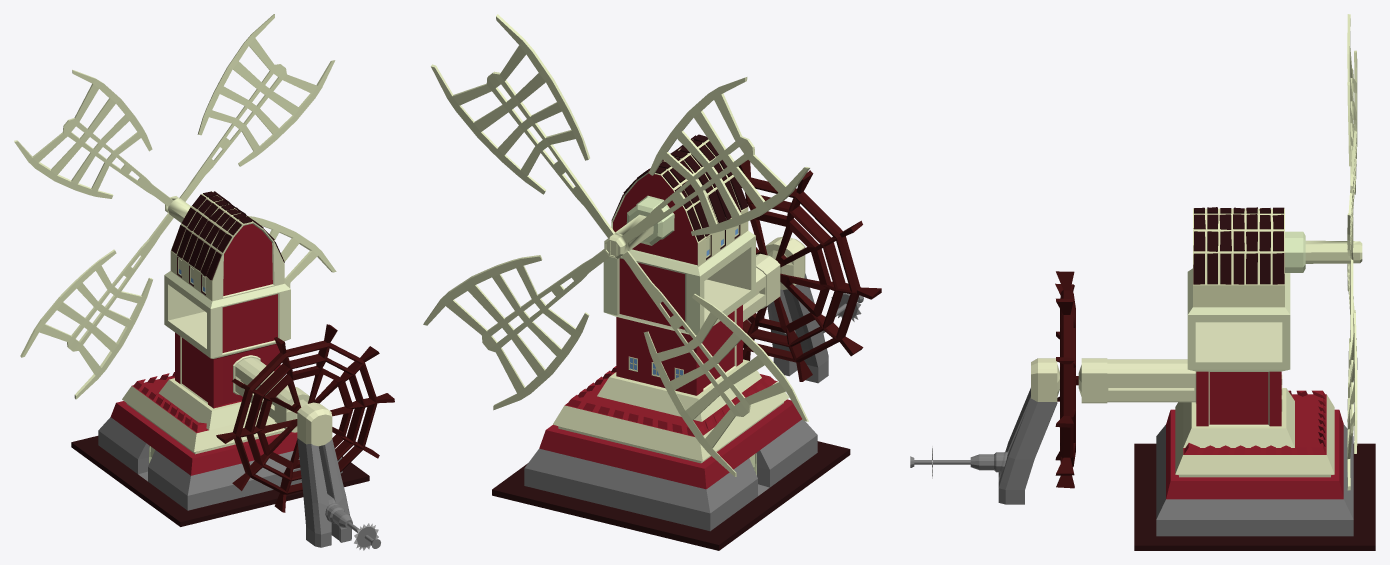
File: FactoryMill.fbx
The picture shows the model from 3 angles, left to right: view 1: azimuth 30°, elevation 25°; view 2: azimuth 150°, elevation 25°; view 3: azimuth 270°, elevation 25°; orthographic projection. The views are drawn at different scales.
Parts seen in each view (by area): view 1: FactoryMill, WindWheel, EngineWheel; view 2: FactoryMill, WindWheel, EngineWheel; view 3: FactoryMill, WindWheel, EngineWheel.
Boxes of the visible parts, bbox=[...] form: FactoryMill: bbox=[71, 191, 380, 550]; WindWheel: bbox=[14, 14, 336, 399]; EngineWheel: bbox=[216, 324, 394, 512]; FactoryMill: bbox=[492, 134, 863, 550]; WindWheel: bbox=[423, 14, 809, 476]; EngineWheel: bbox=[738, 160, 881, 381]; FactoryMill: bbox=[910, 207, 1375, 550]; WindWheel: bbox=[1305, 14, 1362, 490]; EngineWheel: bbox=[1055, 271, 1075, 488].
Size of the model in its own units: 34.06 by 39.68 by 38.56.
